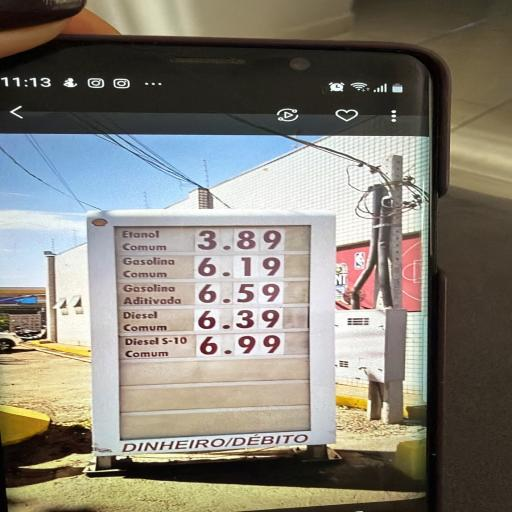ETANOL: (117, 228, 191, 252)
GASOLINA AD: (119, 283, 189, 306)
GASOLINA C: (117, 256, 187, 280)
S10: (122, 335, 193, 360)
S500: (119, 311, 174, 331)
placa: (97, 217, 331, 440)
preco: (193, 332, 285, 356), (192, 254, 283, 278), (196, 228, 284, 252), (194, 282, 286, 303), (195, 309, 286, 330)
